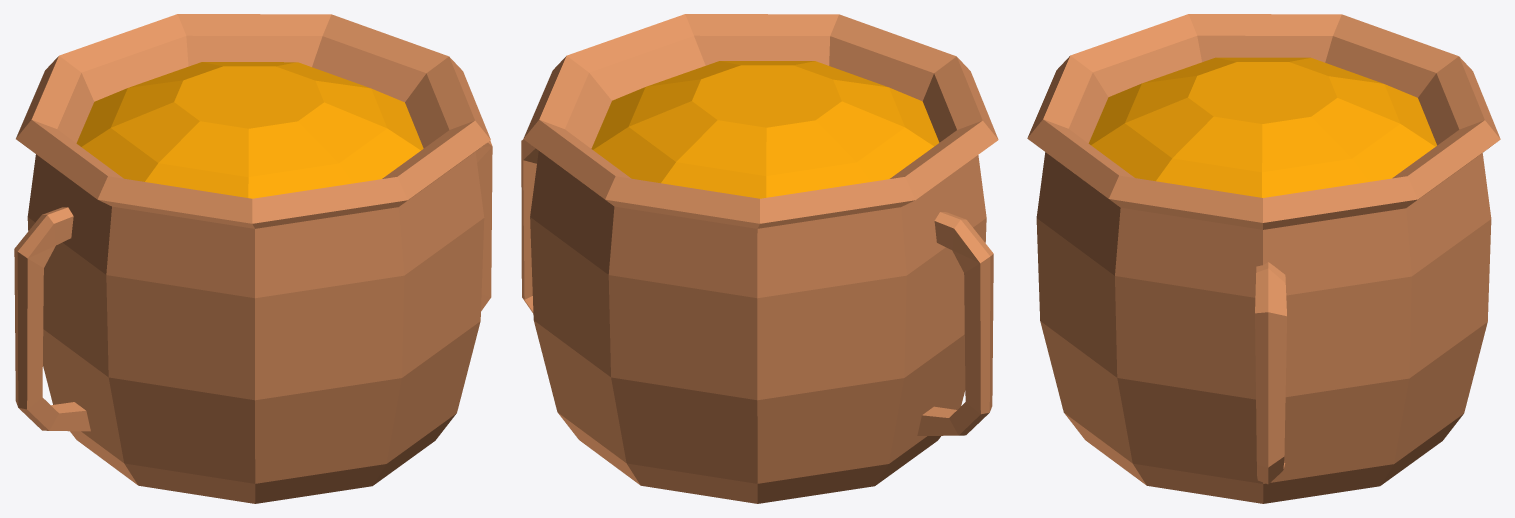
File: Basket Spice_2.fbx
3 renders of one model, left to right at view 1: azimuth 30°, elevation 25°; view 2: azimuth 150°, elevation 25°; view 3: azimuth 270°, elevation 25°, orthographic.
Visible parts, largest first — view 1: Basket Spice_2; view 2: Basket Spice_2; view 3: Basket Spice_2.
Part boxes in pixels (left/top/right/bottom): Basket Spice_2: left=14, top=14, right=492, bottom=503; Basket Spice_2: left=521, top=14, right=998, bottom=503; Basket Spice_2: left=1027, top=14, right=1500, bottom=503.
Size of the model in its own units: 0.81 by 0.5477 by 0.709.
